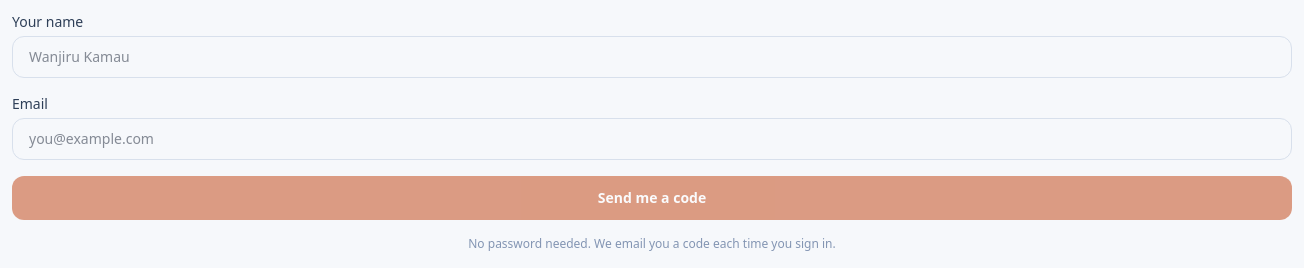
Test: JoinForm › strips non-digits from the code field
Step 1. Type "ada@example.com" into the field labelled "Email" → (652, 139), box [12,118,1292,160]
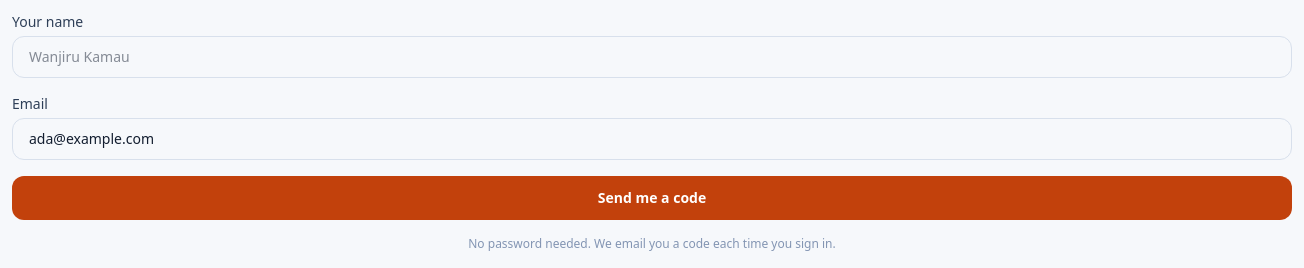
Step 2. Click the button "Send me a code" → (652, 198), box [12,176,1292,220]
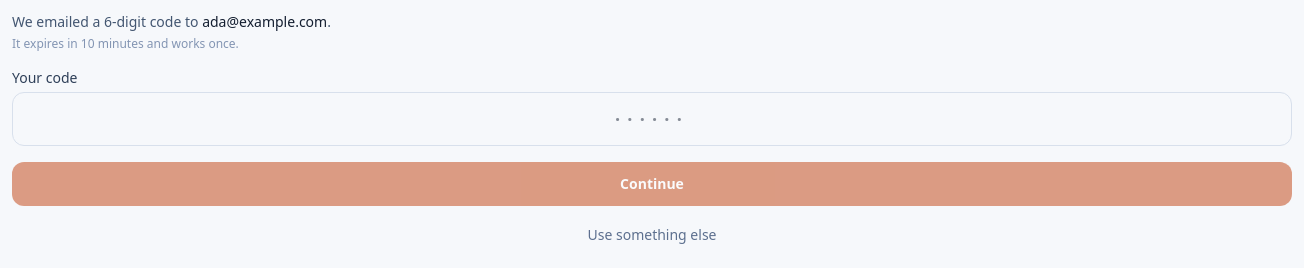
Step 3. Type "12ab34" into the field labelled "Your code" → (652, 119), box [12,92,1292,146]
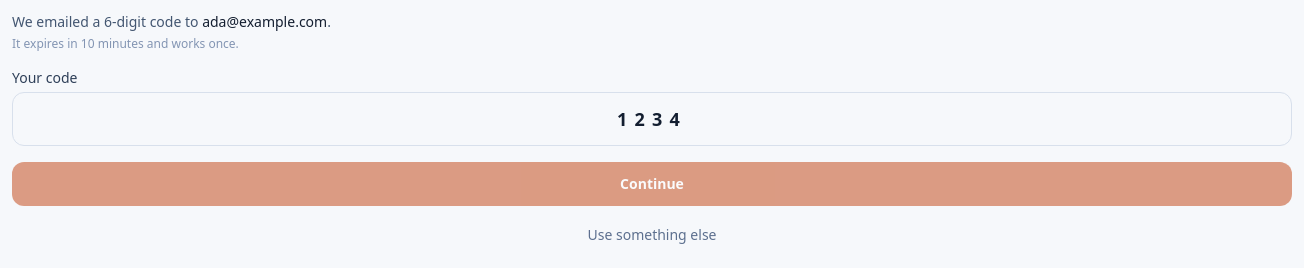
Check: the field labelled "Your code" holds "1234", box [12,92,1292,146]
